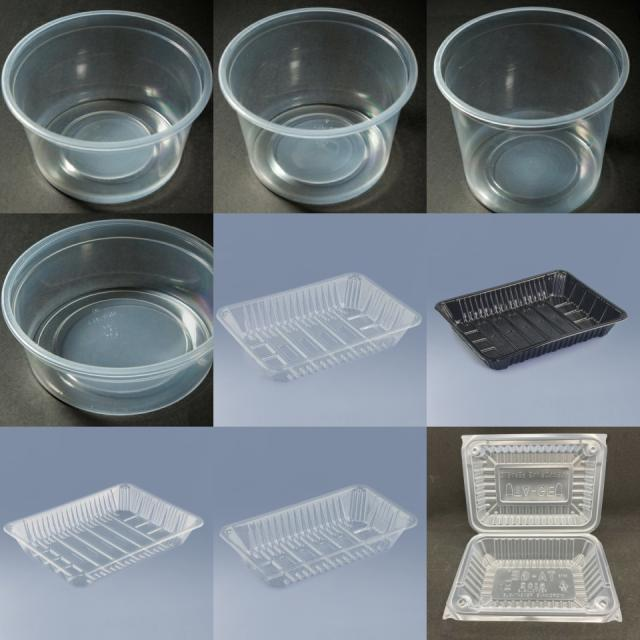Single-Use-Plastic: (1, 220, 212, 415), (1, 10, 212, 203), (434, 8, 629, 212), (219, 8, 418, 204), (445, 434, 620, 622), (218, 272, 421, 381), (220, 485, 418, 587), (5, 484, 202, 586), (435, 270, 628, 369)
